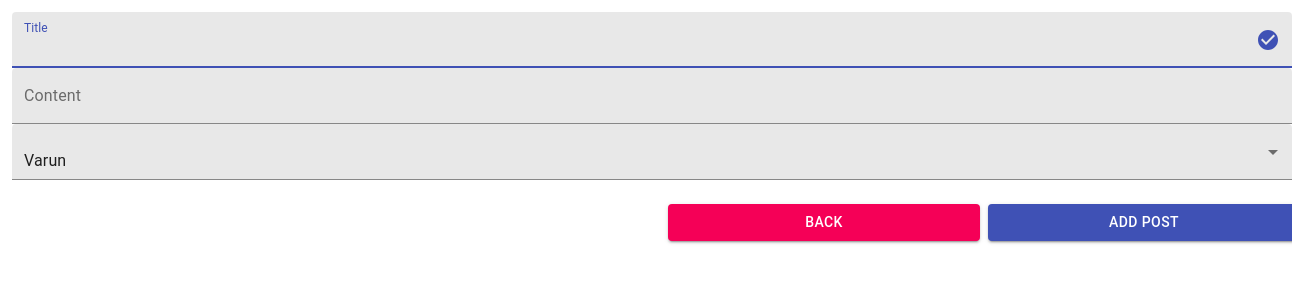
Scenario: Render Post form component › initial loads display post form having error fields
The image size is (1304, 306).
Type "Te" into the field with test id "postFormTitleField". click: (630, 40)
box: [12,12,1248,68]
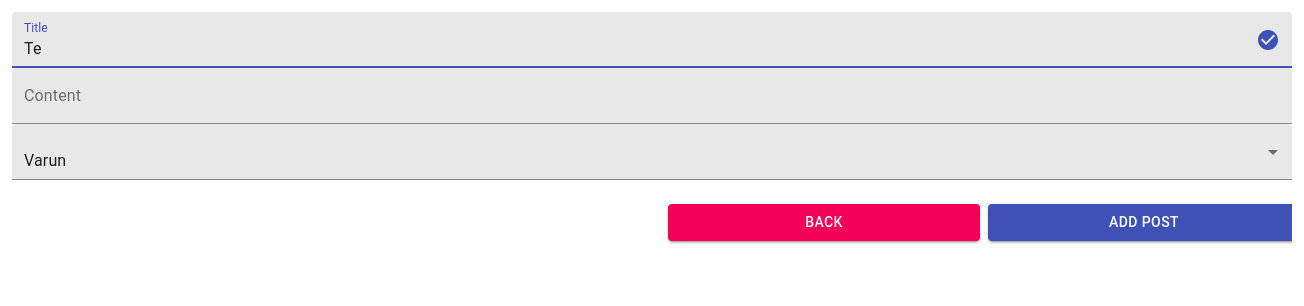
Clear the text box with test id "postFormBodyField". click: (652, 104)
box: [24,95,1280,114]
Click the button with test id "postFormSubmitButton". click: (1140, 222)
box: [988,204,1292,240]
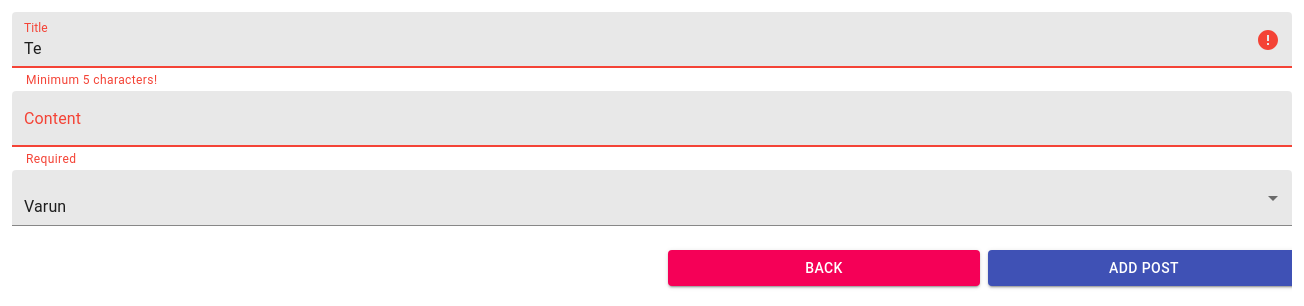
Check: the text "Minimum 5 characters!" is shown, box [26,73,157,87]
Check: the icon with test id "errorIcon" is shown, box [1256,28,1280,52]
